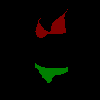mutande: (35, 62, 68, 83)
reggiseno: (35, 9, 68, 38)
